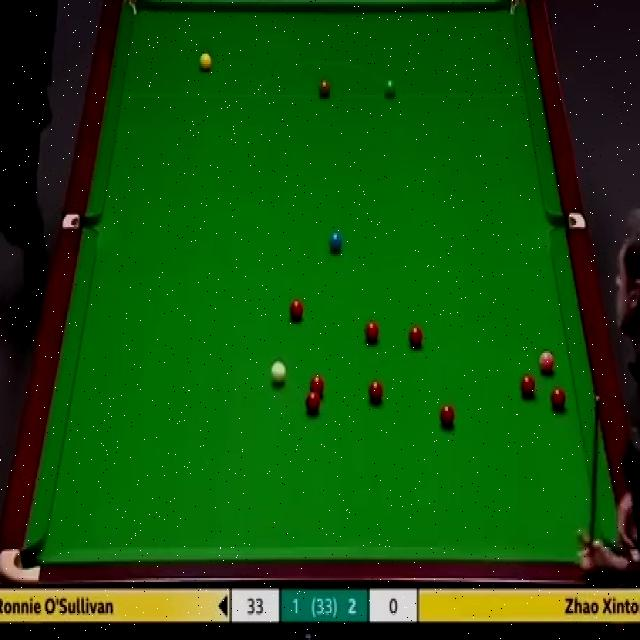blue-ball: (330, 230, 342, 253)
brown-ball: (318, 79, 332, 98)
green-ball: (382, 77, 398, 100)
pink-ball: (538, 350, 555, 373)
red-ball: (366, 378, 384, 407), (363, 320, 381, 347), (550, 387, 568, 410), (407, 324, 424, 348), (519, 373, 535, 398), (288, 295, 303, 321), (438, 404, 454, 426), (308, 376, 325, 396), (305, 394, 320, 416)
white-ball: (270, 360, 288, 390)
yellow-ball: (198, 51, 212, 74)
